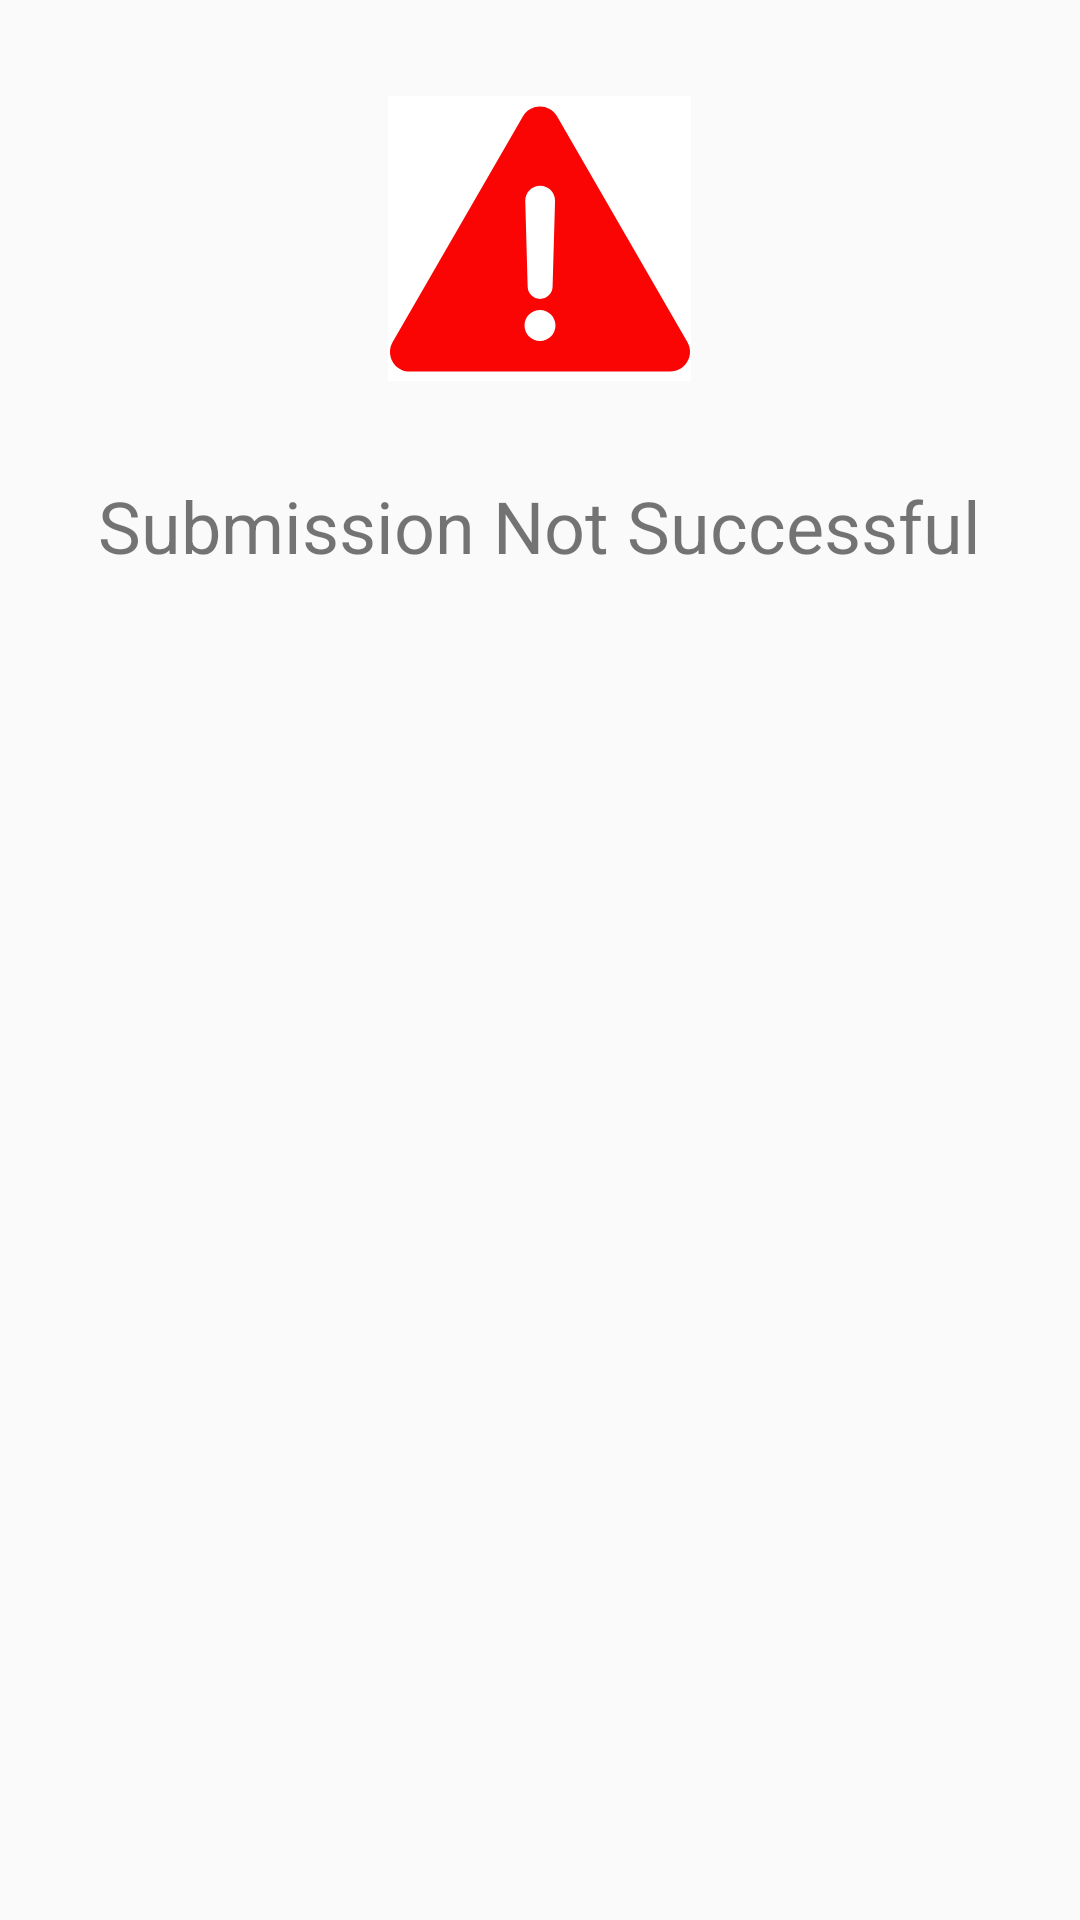

Where icons sit on this 1080 × 1920 app screen, as (x1, y1, x2, y2):
fail: (390, 106, 690, 372)
